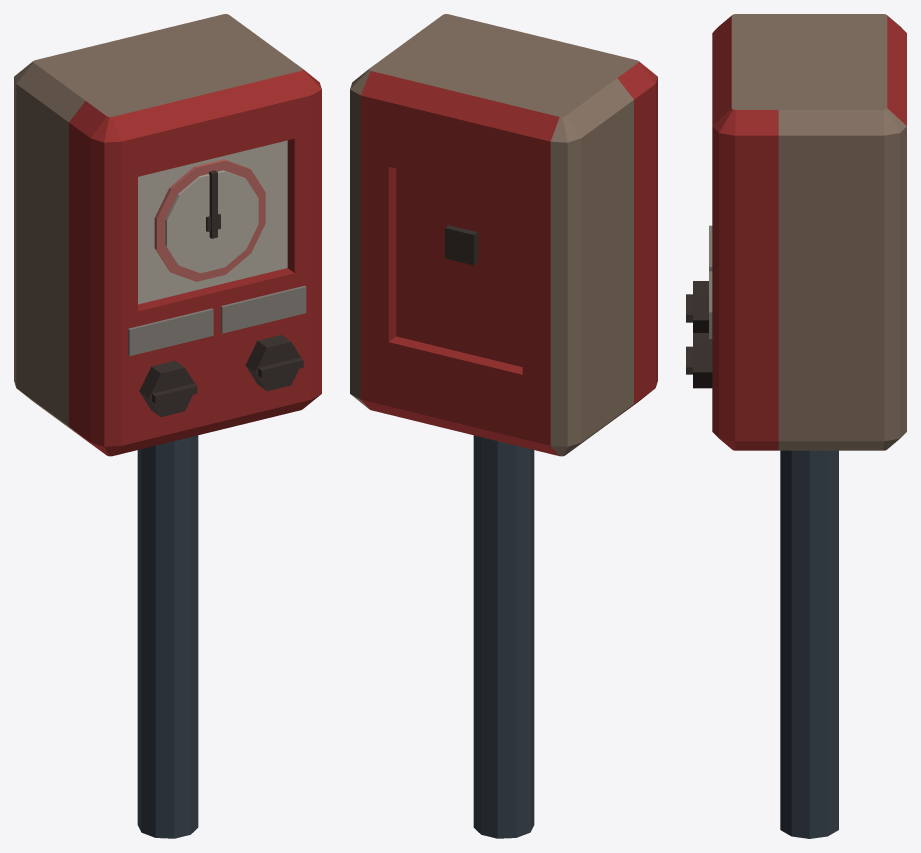
Rendered from parking-meter-e9cf71.glb.
The picture shows the model from 3 angles, left to right: view 1: azimuth 30°, elevation 25°; view 2: azimuth 150°, elevation 25°; view 3: azimuth 270°, elevation 25°; orthographic projection.
Visible parts, largest first — view 1: meter, knob-l-mesh, knob-r-mesh, needle-mesh; view 2: meter; view 3: meter, knob-r-mesh, knob-l-mesh.
Part boxes in pixels (<box>): meter: <box>14,14,321,838</box>; knob-l-mesh: <box>139,360,197,416</box>; knob-r-mesh: <box>245,335,303,391</box>; needle-mesh: <box>209,170,217,238</box>; meter: <box>350,14,657,838</box>; meter: <box>709,14,906,838</box>; knob-r-mesh: <box>686,333,712,388</box>; knob-l-mesh: <box>686,281,708,332</box>.
Size of the model in its own units: 0.41 by 1.3 by 0.3405.
